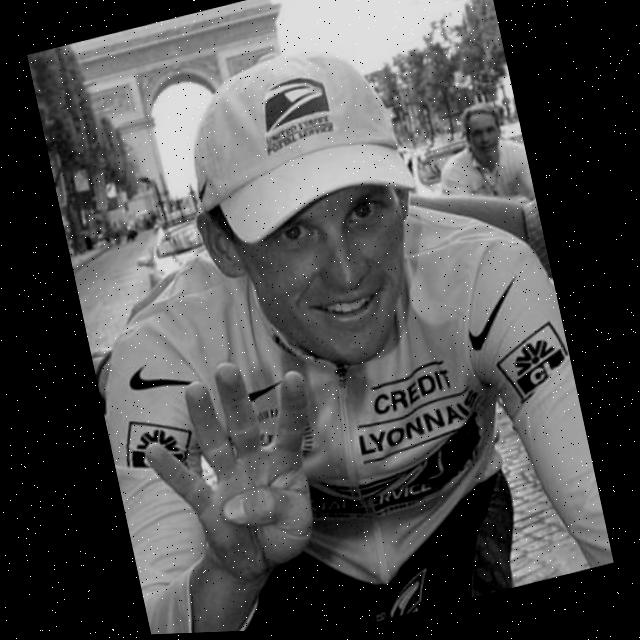face: (162, 20, 458, 418), (449, 96, 516, 179)
